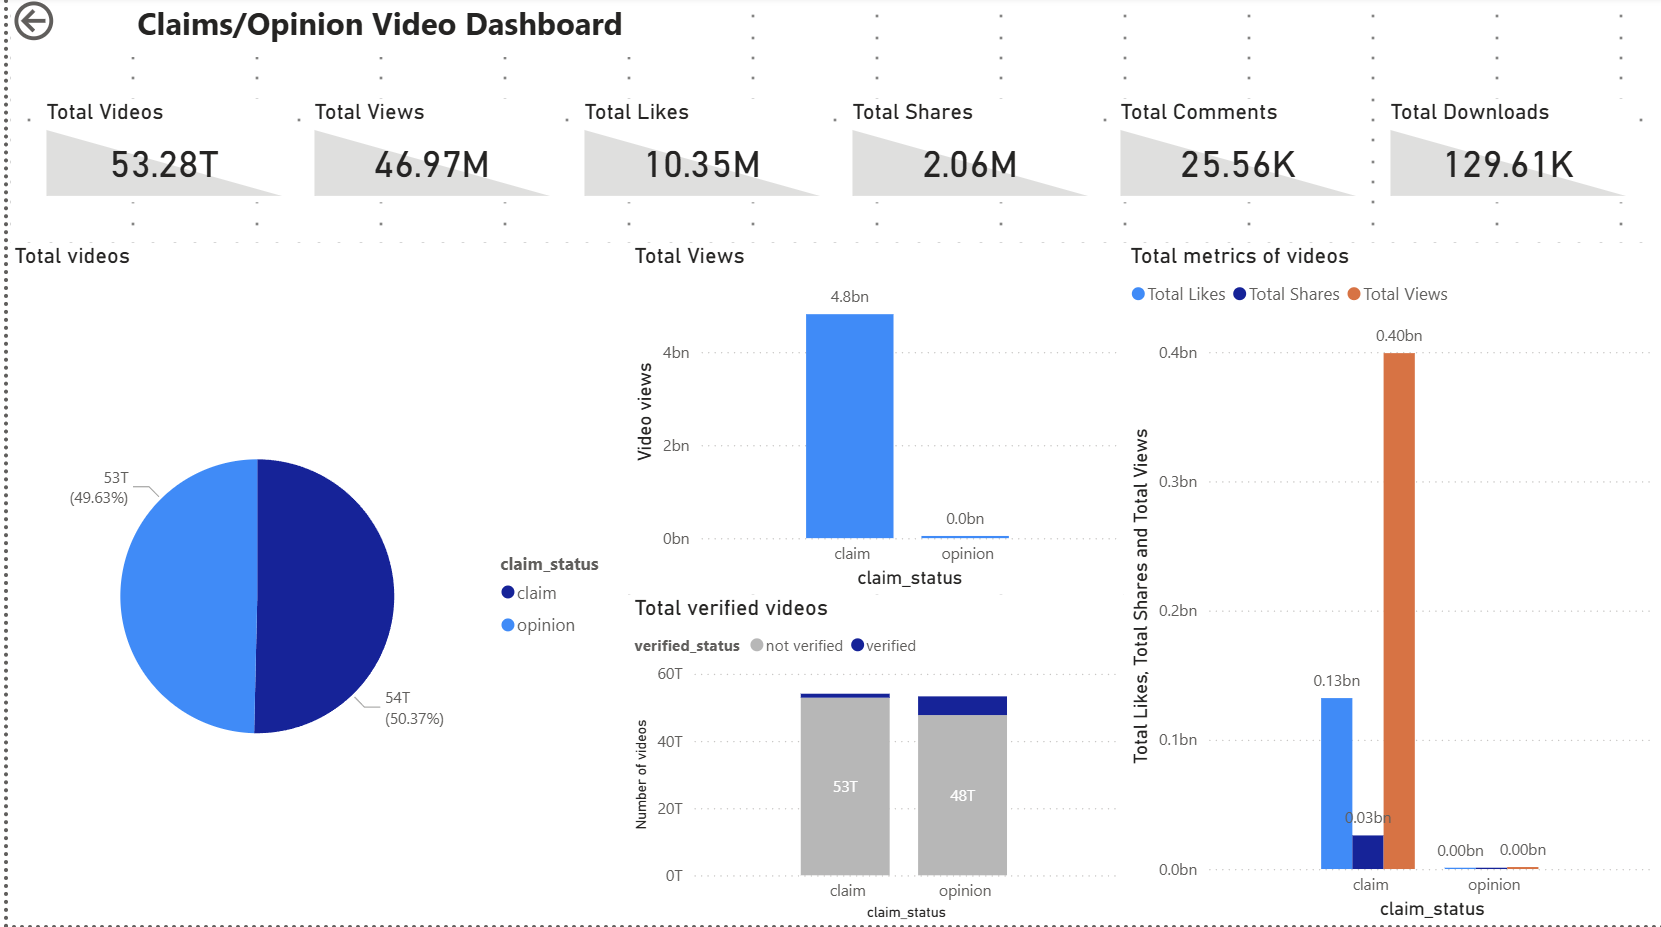

Layout of this report page (visuals, bound fields, positions):
{"tool":"powerbi","page":{"name":"Page 1","canvas":[1280,720],"ordinal":0},"visuals":[{"type":"pieChart","title":"Total claim and opinion videos are similar in numbers","fields":{"Category":["clip_wave_cleaned_dataset.claim_status"],"Y":["Sum(clip_wave_cleaned_dataset.video_id)"]},"box":[0,192,480,528],"z":0},{"type":"columnChart","title":"Significantly more users view claim videos compared to opinion videos","fields":{"Category":["clip_wave_cleaned_dataset.claim_status"],"Y":["Sum(clip_wave_cleaned_dataset.video_view_count)"]},"box":[480,192,384,272],"z":1000},{"type":"columnChart","title":"Remarkable number of claim and opinion videos are not verified","fields":{"Category":["clip_wave_cleaned_dataset.claim_status"],"Y":["Sum(clip_wave_cleaned_dataset.video_id)"],"Series":["clip_wave_cleaned_dataset.verified_status"]},"box":[480,464,384,256],"z":2000},{"type":"clusteredColumnChart","title":"Huge difference in total interactions of claim videos compared to opinion videos. Shows the top 3 \"First 5 words in video transcript\" for the videos ","fields":{"Category":["clip_wave_cleaned_dataset.claim_status","clip_wave_cleaned_dataset.first_6_words_in_transcript"],"Y":["clip_wave_cleaned_dataset.Total Likes","Sum(clip_wave_cleaned_dataset.video_share_count)","Sum(clip_wave_cleaned_dataset.video_view_count)"]},"box":[864,192,416,528],"z":3000},{"type":"actionButton","box":[0,0,100,40],"z":4000},{"type":"textbox","box":[48,0,704,48],"z":5000},{"type":"kpi","title":"Total Videos","fields":{"Indicator":["Sum(clip_wave_cleaned_dataset.video_id)"],"TrendLine":["clip_wave_cleaned_dataset.claim_status"]},"box":[25,80.6,192,80],"z":6000},{"type":"kpi","title":"Total Likes","fields":{"Indicator":["Sum(clip_wave_cleaned_dataset.video_like_count)"],"TrendLine":["clip_wave_cleaned_dataset.claim_status"]},"box":[441,80.6,192,80],"z":7000},{"type":"kpi","title":"Total Shares","fields":{"Indicator":["Sum(clip_wave_cleaned_dataset.video_share_count)"],"TrendLine":["clip_wave_cleaned_dataset.claim_status"]},"box":[649,80.6,192,80],"z":8000},{"type":"kpi","title":"Total Views","fields":{"Indicator":["Sum(clip_wave_cleaned_dataset.video_view_count)"],"TrendLine":["clip_wave_cleaned_dataset.claim_status"]},"box":[233,80.6,192,80],"z":9000},{"type":"kpi","title":"Total Comments","fields":{"Indicator":["Sum(clip_wave_cleaned_dataset.video_comment_count)"],"TrendLine":["clip_wave_cleaned_dataset.claim_status"]},"box":[857,80.6,192,80],"z":10000},{"type":"kpi","title":"Total Downloads","fields":{"TrendLine":["clip_wave_cleaned_dataset.claim_status"],"Indicator":["Sum(clip_wave_cleaned_dataset.video_download_count)"]},"box":[1065,80.6,192,80],"z":11000}]}

Visuals, with their boxes in screenshot pixels (x1, y1, x2, y2), scaled from the page's 1280x720 canvas onto the 1661x927 screenshot:
"Total claim and opinion videos are similar in numbers" pieChart: <box>0,247,623,926</box>
"Significantly more users view claim videos compared to opinion videos" columnChart: <box>623,247,1121,597</box>
"Remarkable number of claim and opinion videos are not verified" columnChart: <box>623,597,1121,926</box>
"Huge difference in total interactions of claim videos compared to opinion videos. Shows the top 3 "First 5 words in video transcript" for the videos " clusteredColumnChart: <box>1121,247,1660,926</box>
actionButton: <box>0,0,130,52</box>
textbox: <box>62,0,976,62</box>
"Total Videos" kpi: <box>32,104,282,207</box>
"Total Likes" kpi: <box>572,104,821,207</box>
"Total Shares" kpi: <box>842,104,1091,207</box>
"Total Views" kpi: <box>302,104,552,207</box>
"Total Comments" kpi: <box>1112,104,1361,207</box>
"Total Downloads" kpi: <box>1382,104,1631,207</box>
